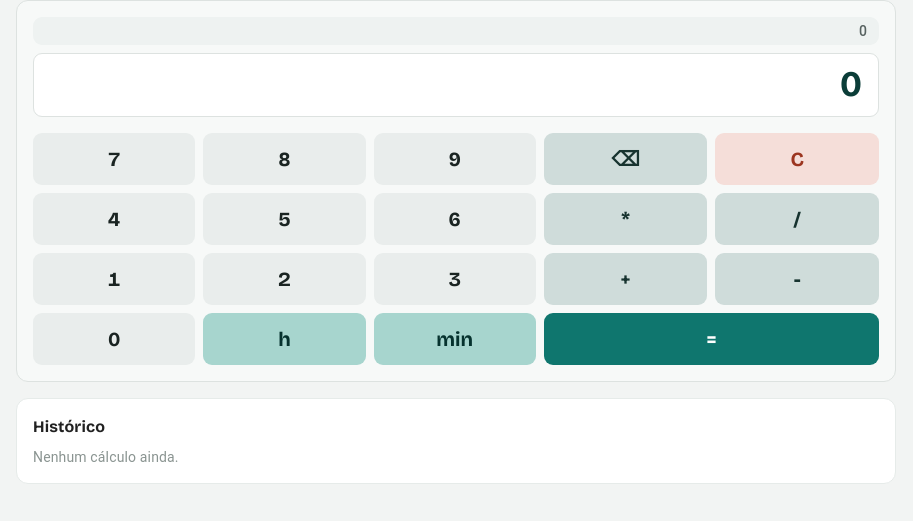
Test: Calculadora › clears the history on request, keeping the current value
Type keys "2h+3h{Enter}"
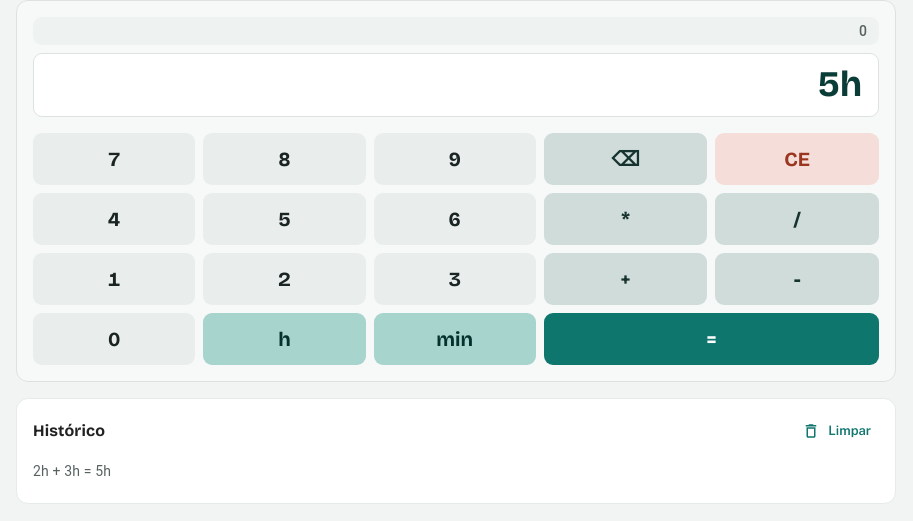
Expected: the list item "2h + 3h = 5h" is shown, [33,463,111,479]
Click the button with aria-label "Limpar histórico": (838, 431) [796,415,879,447]
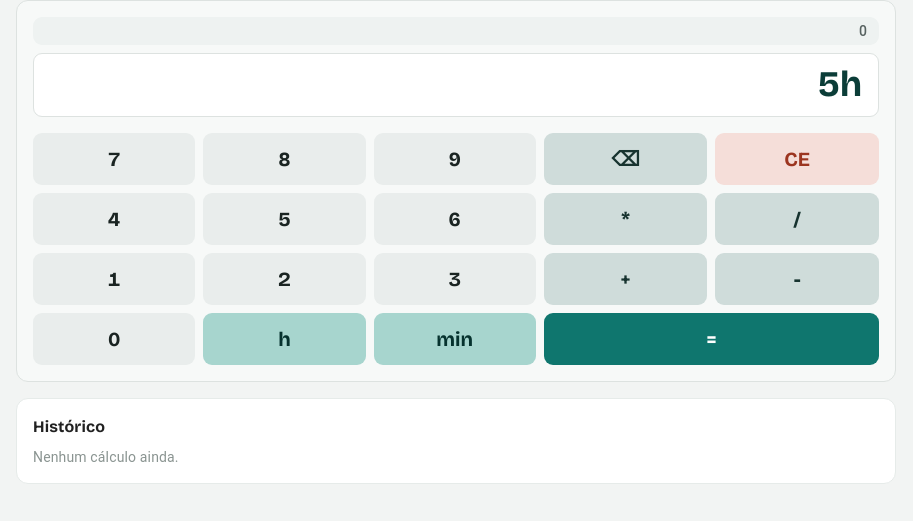
Expected: the text named "Resultado" reads "5h", [818,63,862,106]
Expected: the list item "2h + 3h = 5h" is gone
